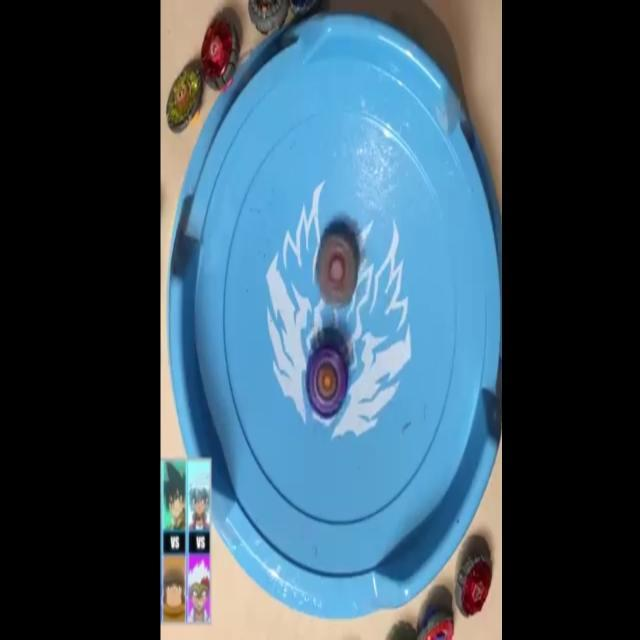Beyblade: (316, 233, 358, 304), (202, 19, 240, 93), (308, 349, 347, 419), (455, 550, 493, 618), (166, 70, 202, 134)
